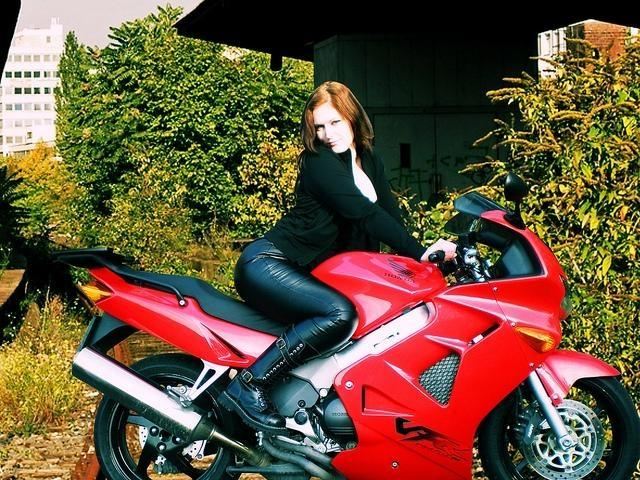motorcycle: (51, 162, 640, 474)
